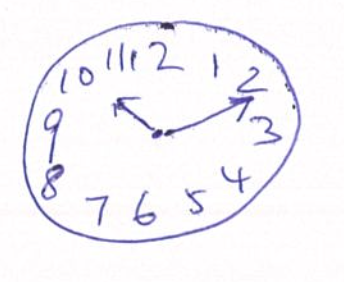1: (210, 51, 222, 80)
10: (58, 65, 96, 95)
11: (104, 41, 126, 72)
12: (128, 40, 188, 73)
2: (236, 65, 271, 96)
3: (248, 113, 283, 148)
4: (220, 165, 254, 195)
5: (182, 186, 208, 216)
6: (132, 189, 158, 228)
7: (84, 191, 109, 228)
8: (39, 163, 65, 200)
9: (42, 107, 64, 164)
contour: (20, 17, 302, 246)
hand: (112, 95, 254, 138)
top_left_arrow: (111, 95, 157, 132)
top_right_arrow: (163, 95, 255, 135)
